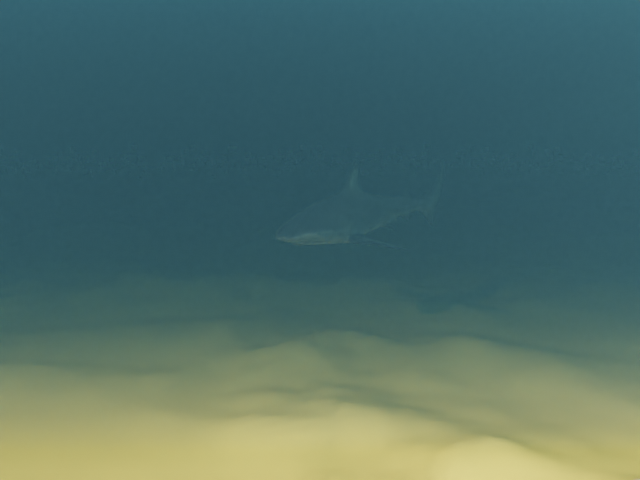Carribean Shark.001: (275, 161, 443, 250)
